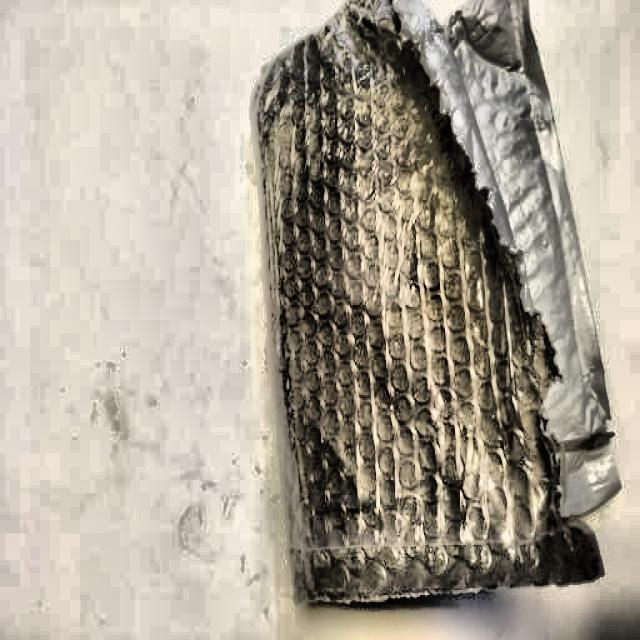plastic: (250, 3, 610, 606)
